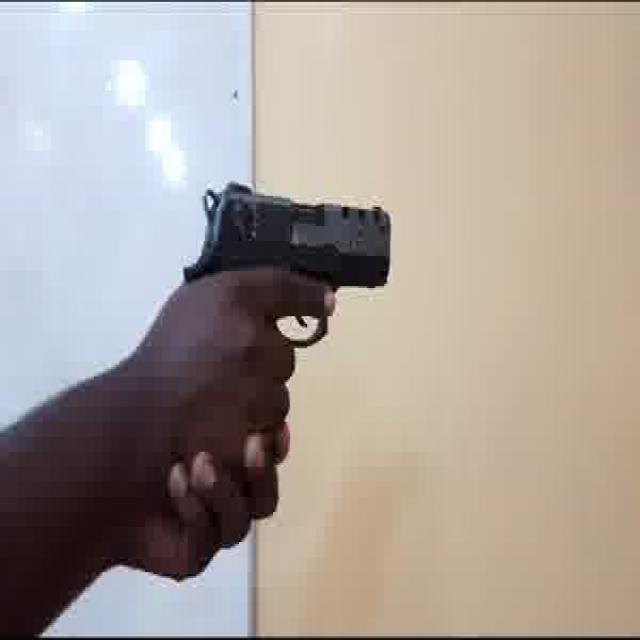weapon: (179, 180, 392, 350)
